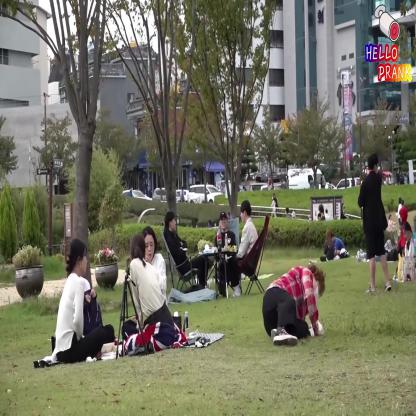Fall_Down: (260, 260, 327, 350)
